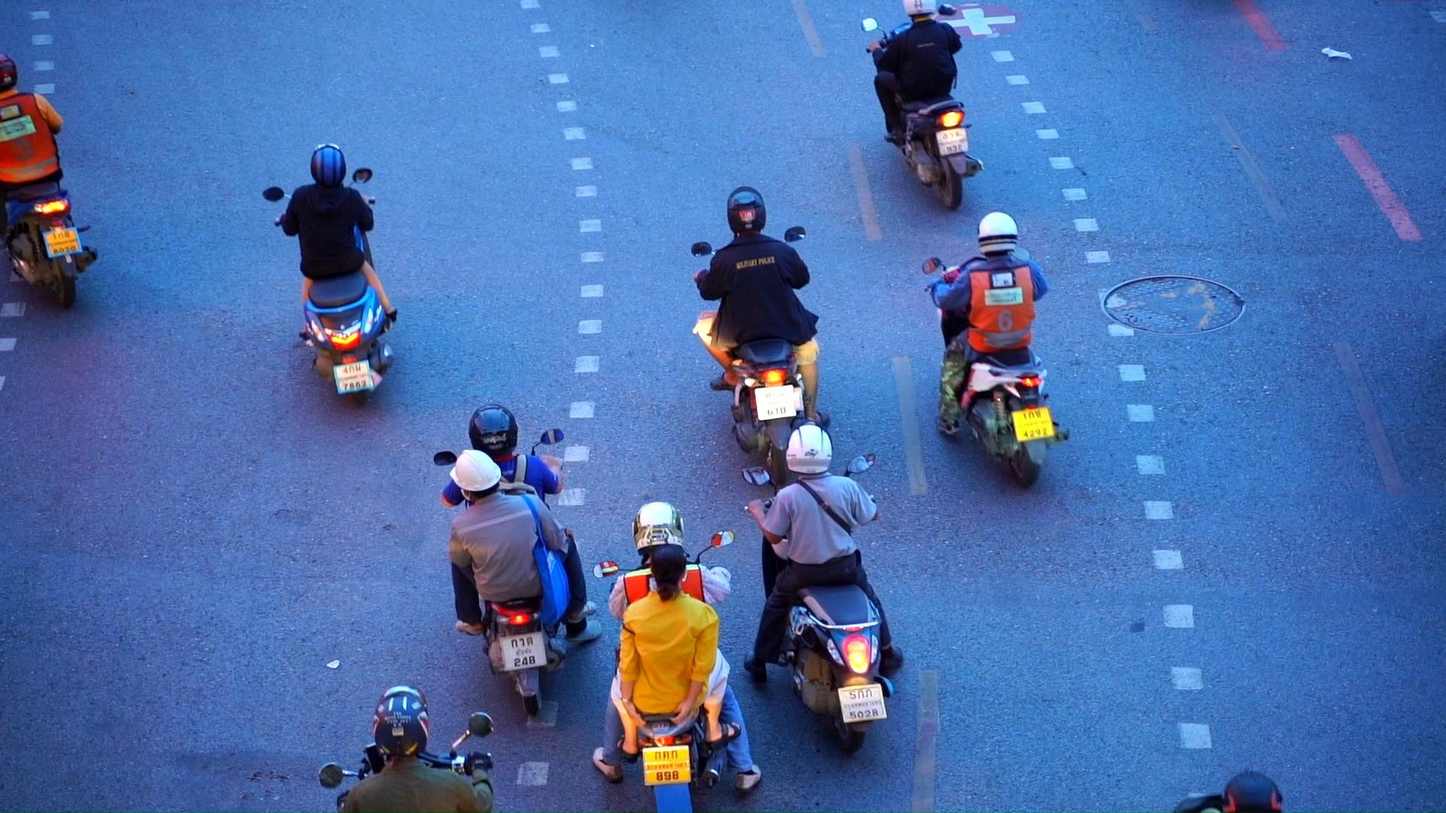driver: (741, 417, 902, 754), (592, 501, 763, 813), (434, 404, 601, 717), (691, 187, 831, 485), (923, 211, 1069, 489), (262, 143, 398, 406), (861, 0, 986, 209), (0, 53, 98, 310), (318, 686, 494, 813)
helmet: (374, 685, 429, 762), (449, 449, 502, 511), (631, 502, 686, 556), (469, 404, 518, 461), (786, 417, 833, 475), (728, 186, 766, 240), (977, 211, 1019, 255), (310, 143, 346, 189), (902, 0, 937, 22), (0, 53, 18, 94)
no-helmet: (651, 543, 688, 603)
